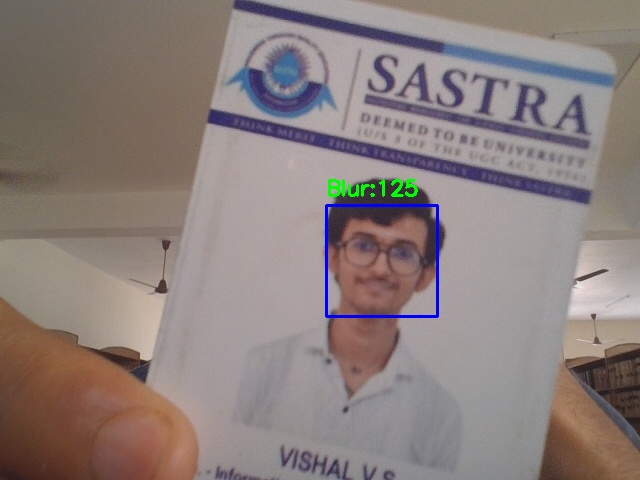fake: (326, 205, 437, 316)
